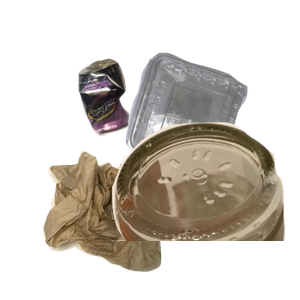glass: (89, 120, 300, 300)
metal: (75, 56, 198, 185)
plastic: (123, 50, 300, 214)
trash: (40, 138, 280, 300)
